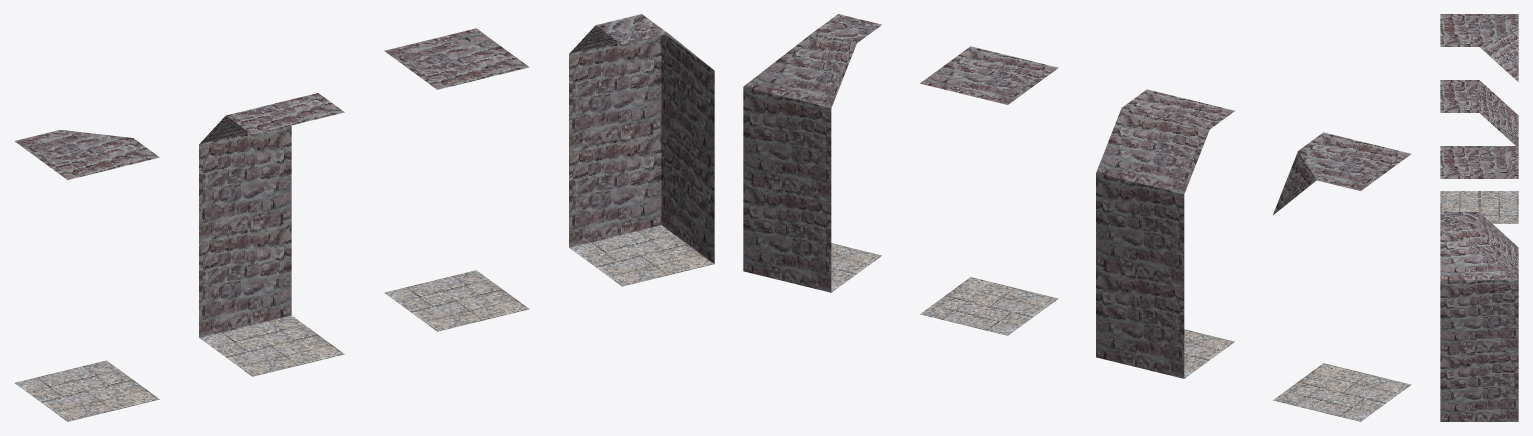
Rendered from tileset.glb.
The picture shows the model from 3 angles, left to right: view 1: azimuth 30°, elevation 25°; view 2: azimuth 150°, elevation 25°; view 3: azimuth 270°, elevation 25°; orthographic projection. The views are drawn at different scales.
Parts seen in each view (by area): view 1: corner_in-col, wall-col, floor-col, corner_out-col; view 2: wall-col, corner_in-col, corner_out-col, floor-col; view 3: corner_in-col, corner_out-col, wall-col, floor-col.
Boxes of the visible parts, x1,y1,x2,y2 form: corner_in-col: (569,14,714,286); wall-col: (199,93,344,376); floor-col: (384,28,529,331); corner_out-col: (14,130,159,421); wall-col: (1096,89,1234,378); corner_in-col: (743,14,881,292); corner_out-col: (1273,132,1411,421); floor-col: (920,46,1058,335); corner_in-col: (1440,212,1518,421); corner_out-col: (1440,14,1518,223); wall-col: (1440,80,1518,145); floor-col: (1440,146,1518,178).
Bounding box in the file's own units: 7 × 2.5 × 1.
1 material, 1 textured.
